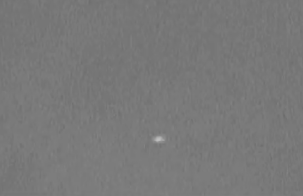Target: (155, 136, 163, 140)
